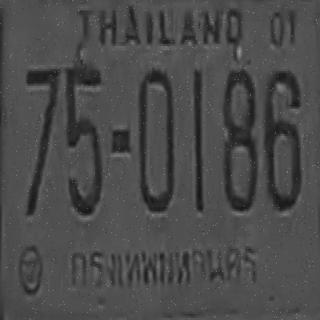N00: (137, 67, 174, 211)
N01: (192, 68, 204, 212)
N05: (65, 61, 102, 216)
N06: (264, 69, 300, 211)
N07: (24, 67, 60, 216), (25, 67, 59, 163)
N08: (221, 67, 257, 211)
P04: (67, 235, 266, 303)
